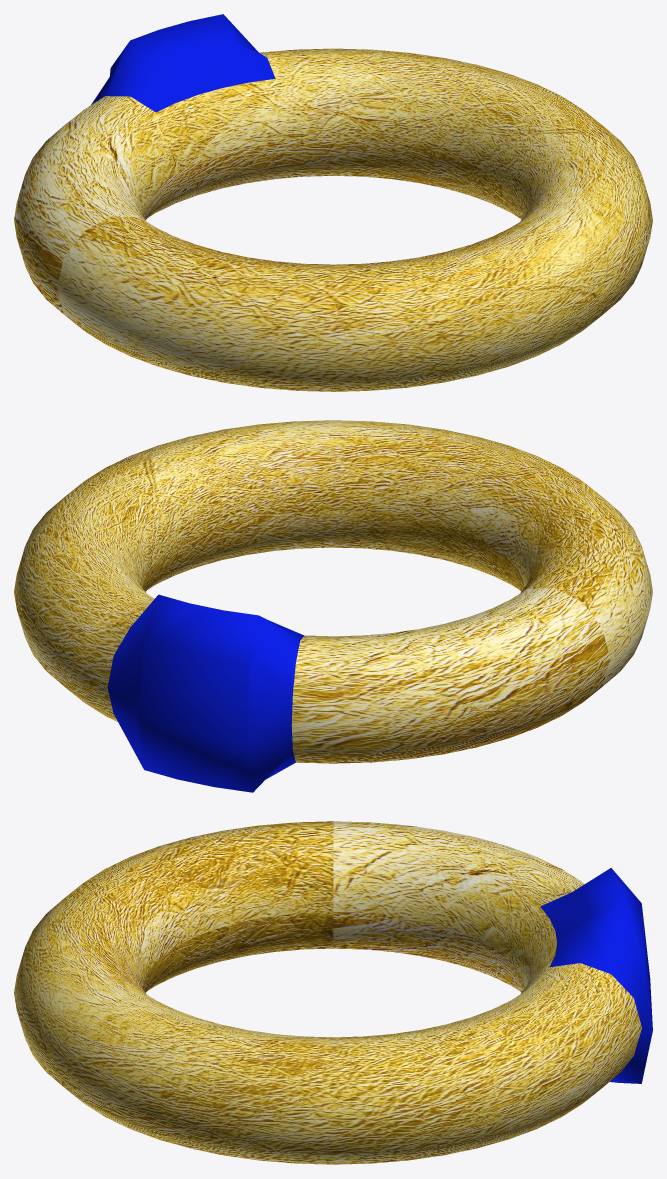
The model's file is anillo2.glb.
3 renders of one model, top to bottom at view 1: azimuth 30°, elevation 25°; view 2: azimuth 150°, elevation 25°; view 3: azimuth 270°, elevation 25°, orthographic.
Parts seen in each view (by area): view 1: Toroide; view 2: Toroide; view 3: Toroide.
Part boxes in pixels (x1=…): Toroide: x1=14, y1=14, x2=652, y2=391; Toroide: x1=14, y1=420, x2=652, y2=792; Toroide: x1=14, y1=821, x2=652, y2=1164.
Bounding box in the file's own units: 2.5 × 0.7249 × 2.5.
Materials: 2 (1 with a texture image).
